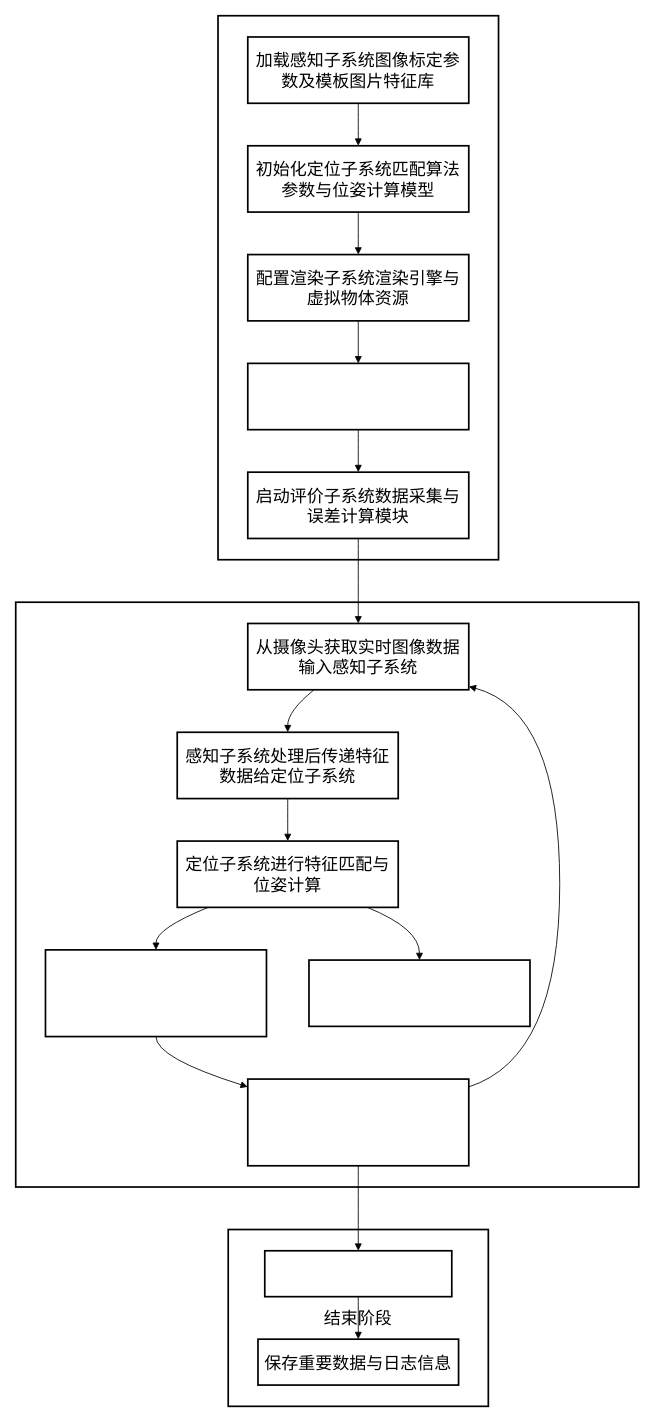
This 654x1421 diagram has some shape labels left out. Here are the shapes that lost their labels. From the top down, the centre of each, then its label:
the point at 357,396: 设定硬件加速子系统加速模式
the point at 155,993: 根据位姿信息调用渲染子系统渲染虚拟物体并输出至显示设备
the point at 419,993: 硬件加速子系统加速定位子系统计算任务
the point at 357,1122: 将渲染画面与实物画面输入评价子系统计算相对误差并反馈给主程序
the point at 358,1273: 关闭各子系统运行进程
